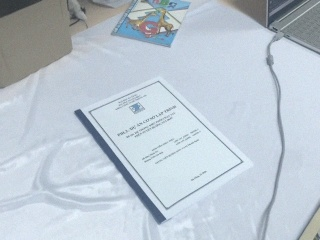book: (109, 1, 191, 49)
box: (1, 1, 73, 93)
